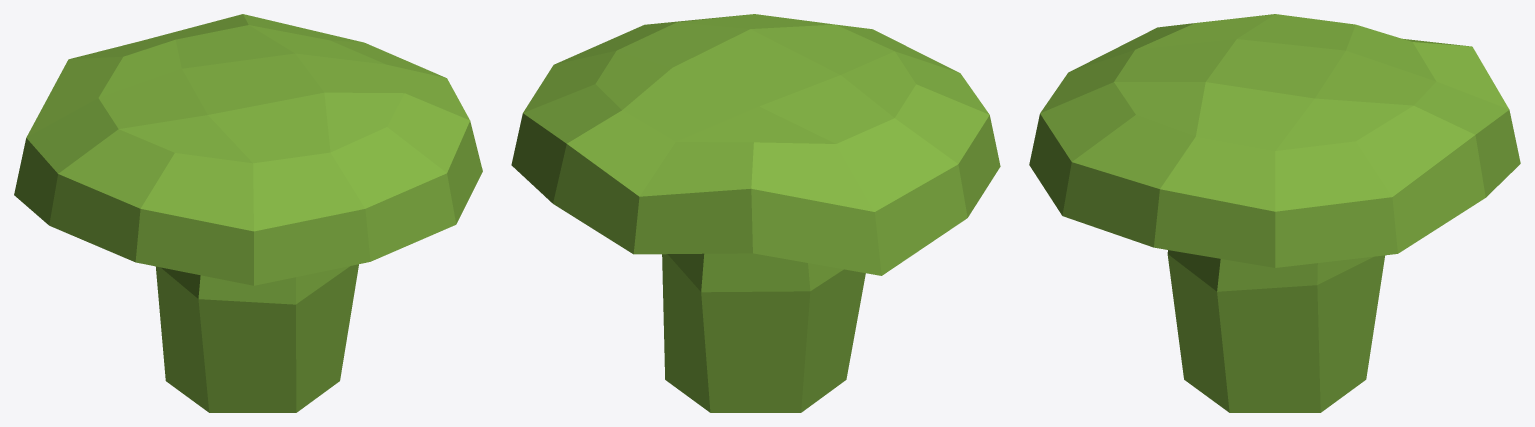
The model's file is Mushroom.fbx.
The picture shows the model from 3 angles, left to right: view 1: azimuth 30°, elevation 25°; view 2: azimuth 150°, elevation 25°; view 3: azimuth 270°, elevation 25°; orthographic projection. The views are drawn at different scales.
Parts seen in each view (by area): view 1: 柱体.019; view 2: 柱体.019; view 3: 柱体.019.
Boxes of the visible parts, left/top/right/bottom form: 柱体.019: left=14, top=14, right=482, bottom=412; 柱体.019: left=511, top=14, right=1000, bottom=412; 柱体.019: left=1029, top=14, right=1520, bottom=412.
Bounding box in the file's own units: 118 × 118 × 84.09.
